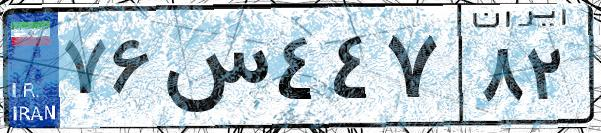2: (525, 38, 570, 115)
4: (270, 28, 330, 110), (330, 28, 385, 110)
6: (110, 28, 158, 98)
7: (385, 28, 445, 110), (57, 26, 110, 100)
8: (475, 38, 525, 113)
س: (158, 20, 270, 120)
